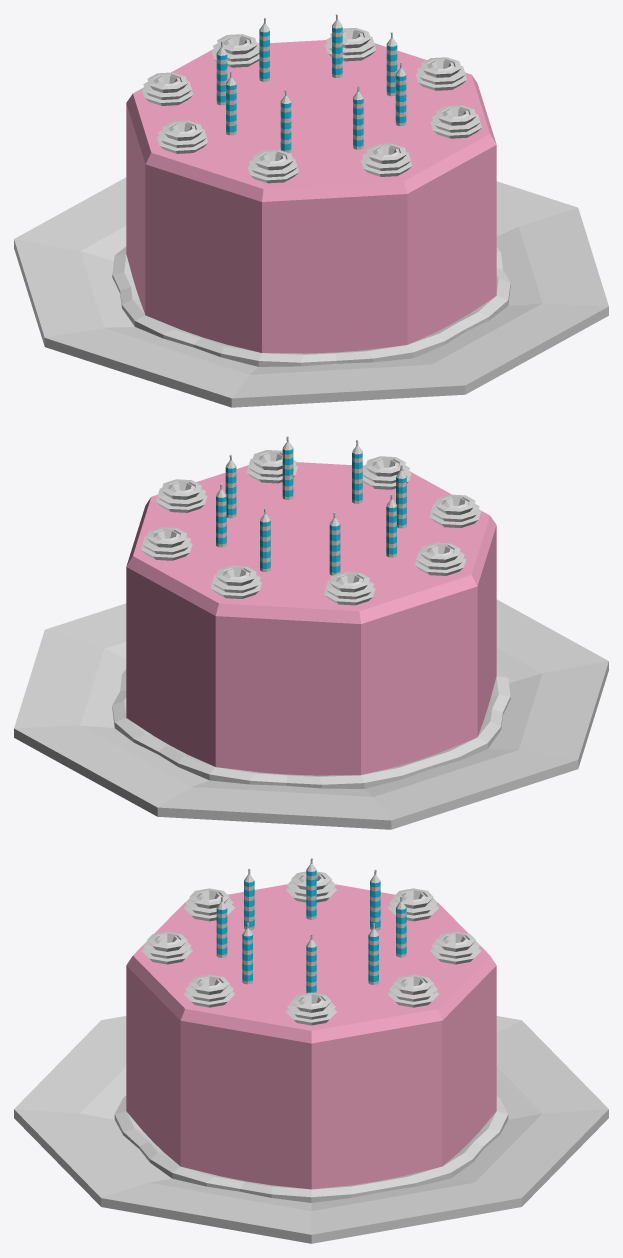
Rendered from Cake.glb.
3 views of the same model, one above another, from view 1: azimuth 30°, elevation 25°; view 2: azimuth 150°, elevation 25°; view 3: azimuth 270°, elevation 25° (orthographic). The views are drawn at different scales.
Parts seen in each view (by area): view 1: Circle.006; view 2: Circle.006; view 3: Circle.006.
Boxes of the visible parts, x1=… form: Circle.006: x1=14, y1=14, x2=608, y2=407; Circle.006: x1=14, y1=436, x2=608, y2=829; Circle.006: x1=14, y1=858, x2=608, y2=1243.
Size of the model in its own units: 21.8 by 9.92 by 21.8.
